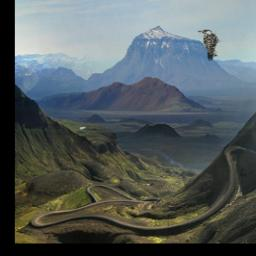Woodpecker: (198, 30, 222, 62)
